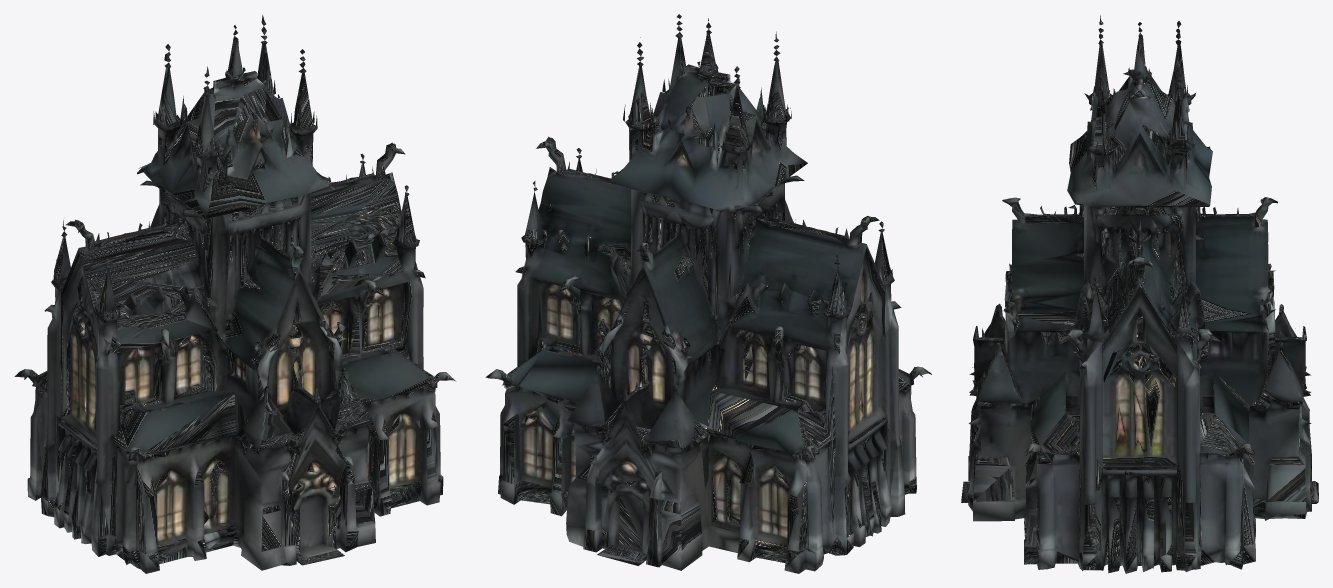
File: Ghotisches_Schloss.glb
3 renders of one model, left to right at view 1: azimuth 30°, elevation 25°; view 2: azimuth 150°, elevation 25°; view 3: azimuth 270°, elevation 25°, orthographic.
Parts seen in each view (by area): view 1: Ghotisches_Schloss; view 2: Ghotisches_Schloss; view 3: Ghotisches_Schloss.
Part boxes in pixels (x1,y1,x2,y2): Ghotisches_Schloss: (14,15,456,573); Ghotisches_Schloss: (485,14,931,573); Ghotisches_Schloss: (961,15,1318,573).
Size of the model in its own units: 1.39 by 1.88 by 1.29.
Materials: 1 (1 with a texture image).
